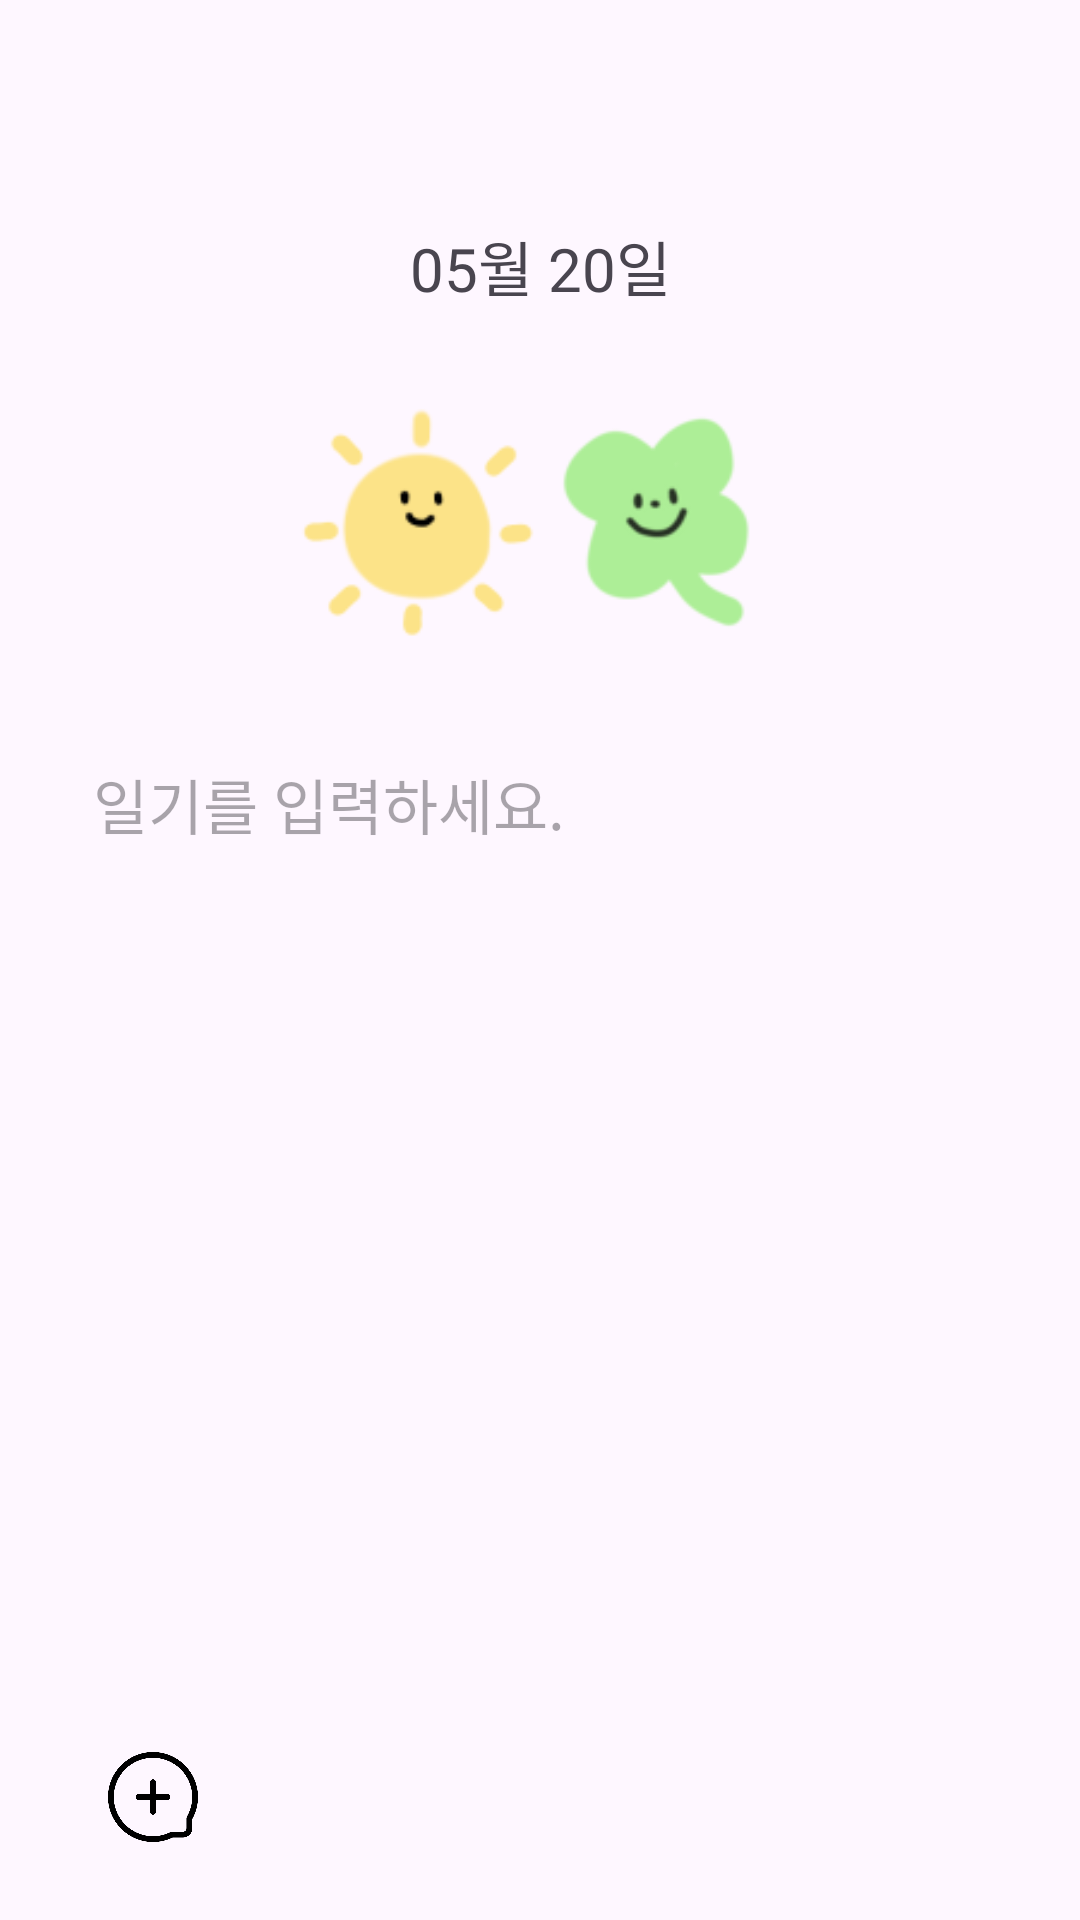

Named icons in this screenshot (1080w x 1920h) and their bounding boxes, (x1=x1, y1=y1, x2=x2, y2=y2):
add: (x1=108, y1=1752, x2=198, y2=1842)
mood lucky: (x1=563, y1=418, x2=749, y2=626)
weather sunny: (x1=304, y1=410, x2=533, y2=636)
